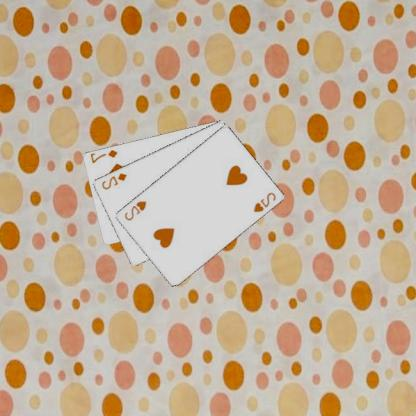2D: (100, 170, 130, 191)
2H: (252, 189, 279, 214), (123, 198, 150, 222)
7D: (90, 146, 121, 164)
